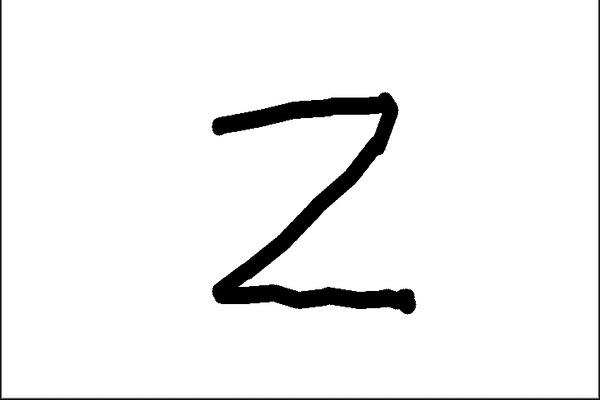Z: (191, 86, 427, 319)
